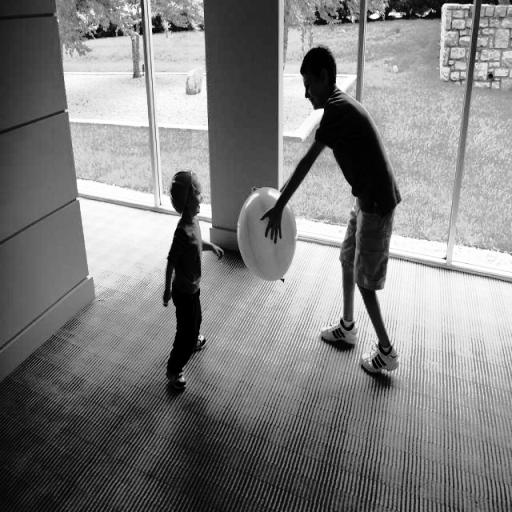balloon: (238, 186, 298, 288)
